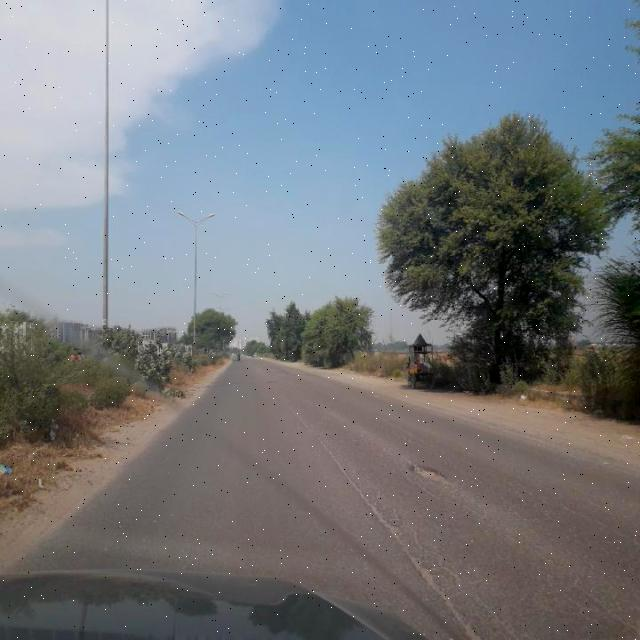D00: (297, 422, 499, 638)
D20: (484, 468, 636, 631)
D40: (409, 460, 451, 482)
